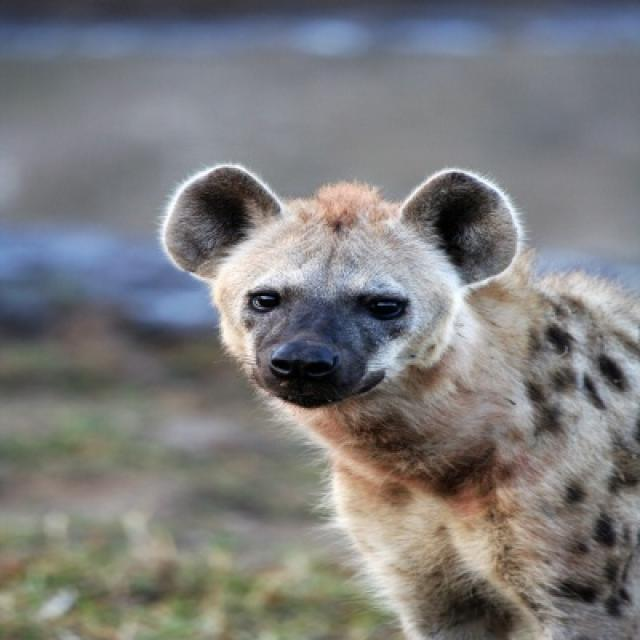hyena: (162, 165, 638, 638)
